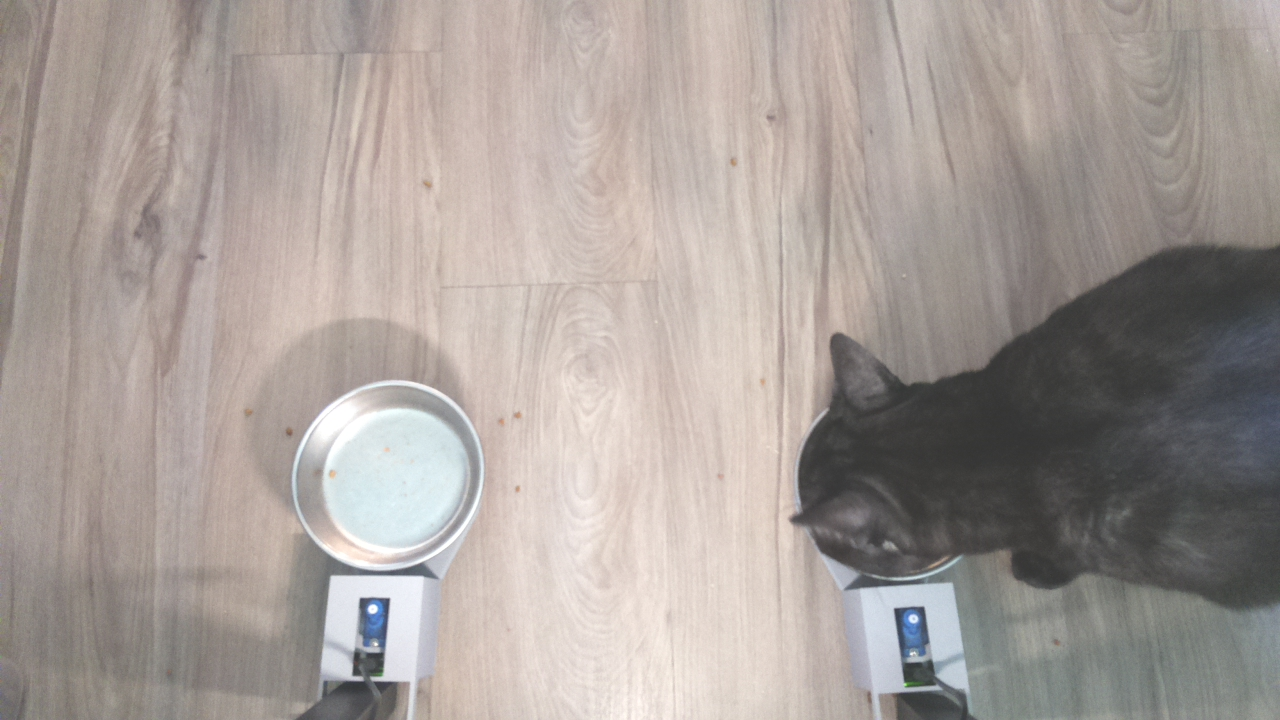open_bowl: (283, 378, 486, 577)
saki_eating: (782, 312, 998, 601)
